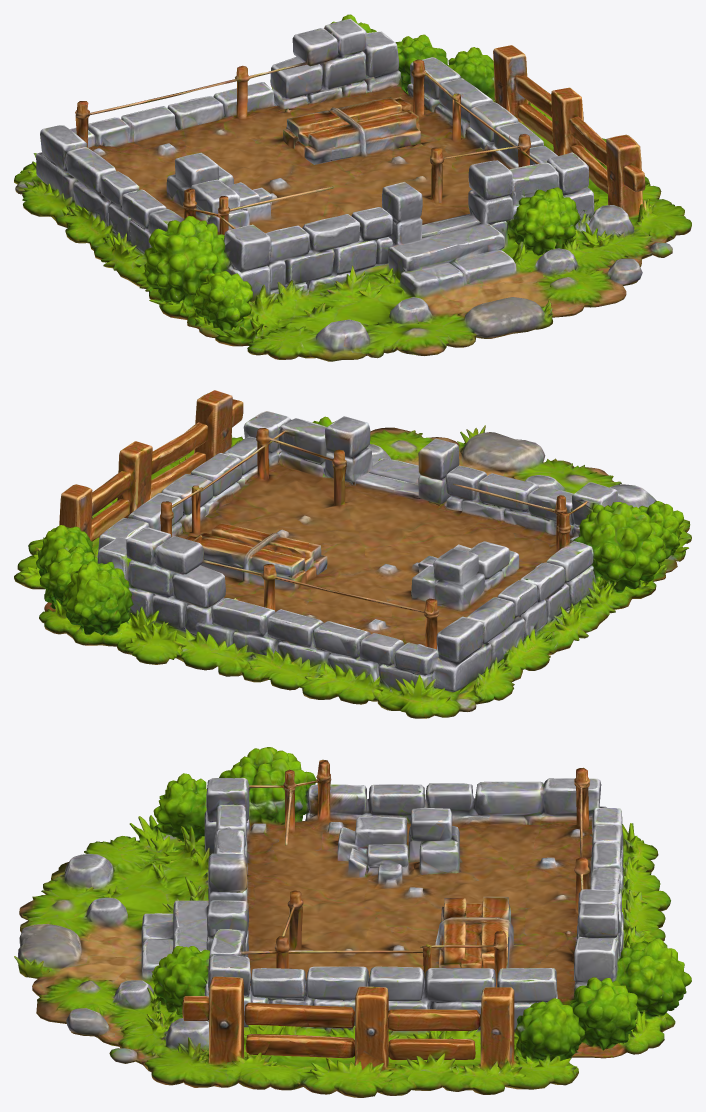
File: casa_e1.glb
3 views of the same model, one above another, from view 1: azimuth 30°, elevation 25°; view 2: azimuth 150°, elevation 25°; view 3: azimuth 270°, elevation 25° (orthographic). The views are drawn at different scales.
Bounding box in the file's own units: 1.84 × 0.3069 × 1.9.
1 material, 1 textured.
